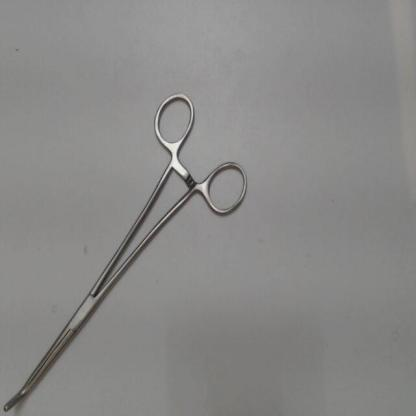Lahey Forceps: (3, 87, 252, 413)
